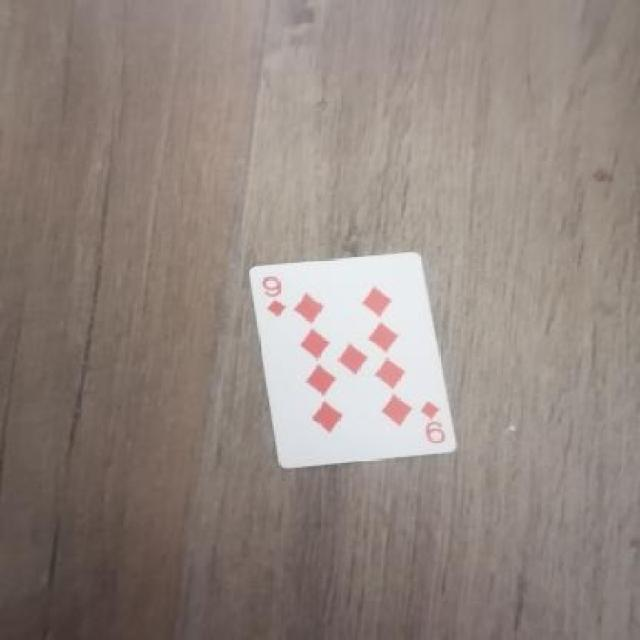9D: (419, 396, 472, 455), (257, 269, 301, 333)
